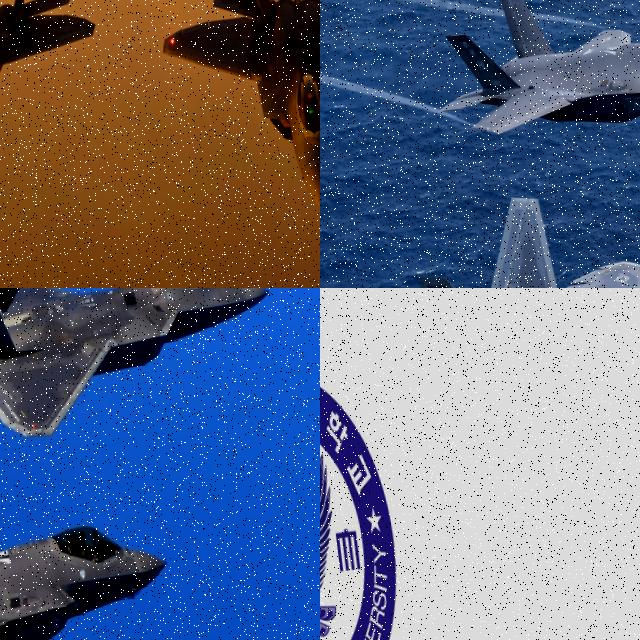F22: (0, 288, 285, 450), (350, 151, 640, 288), (148, 0, 320, 222), (429, 0, 640, 156), (0, 464, 180, 640), (0, 0, 110, 158)
KAU_Marker: (320, 356, 417, 640)
